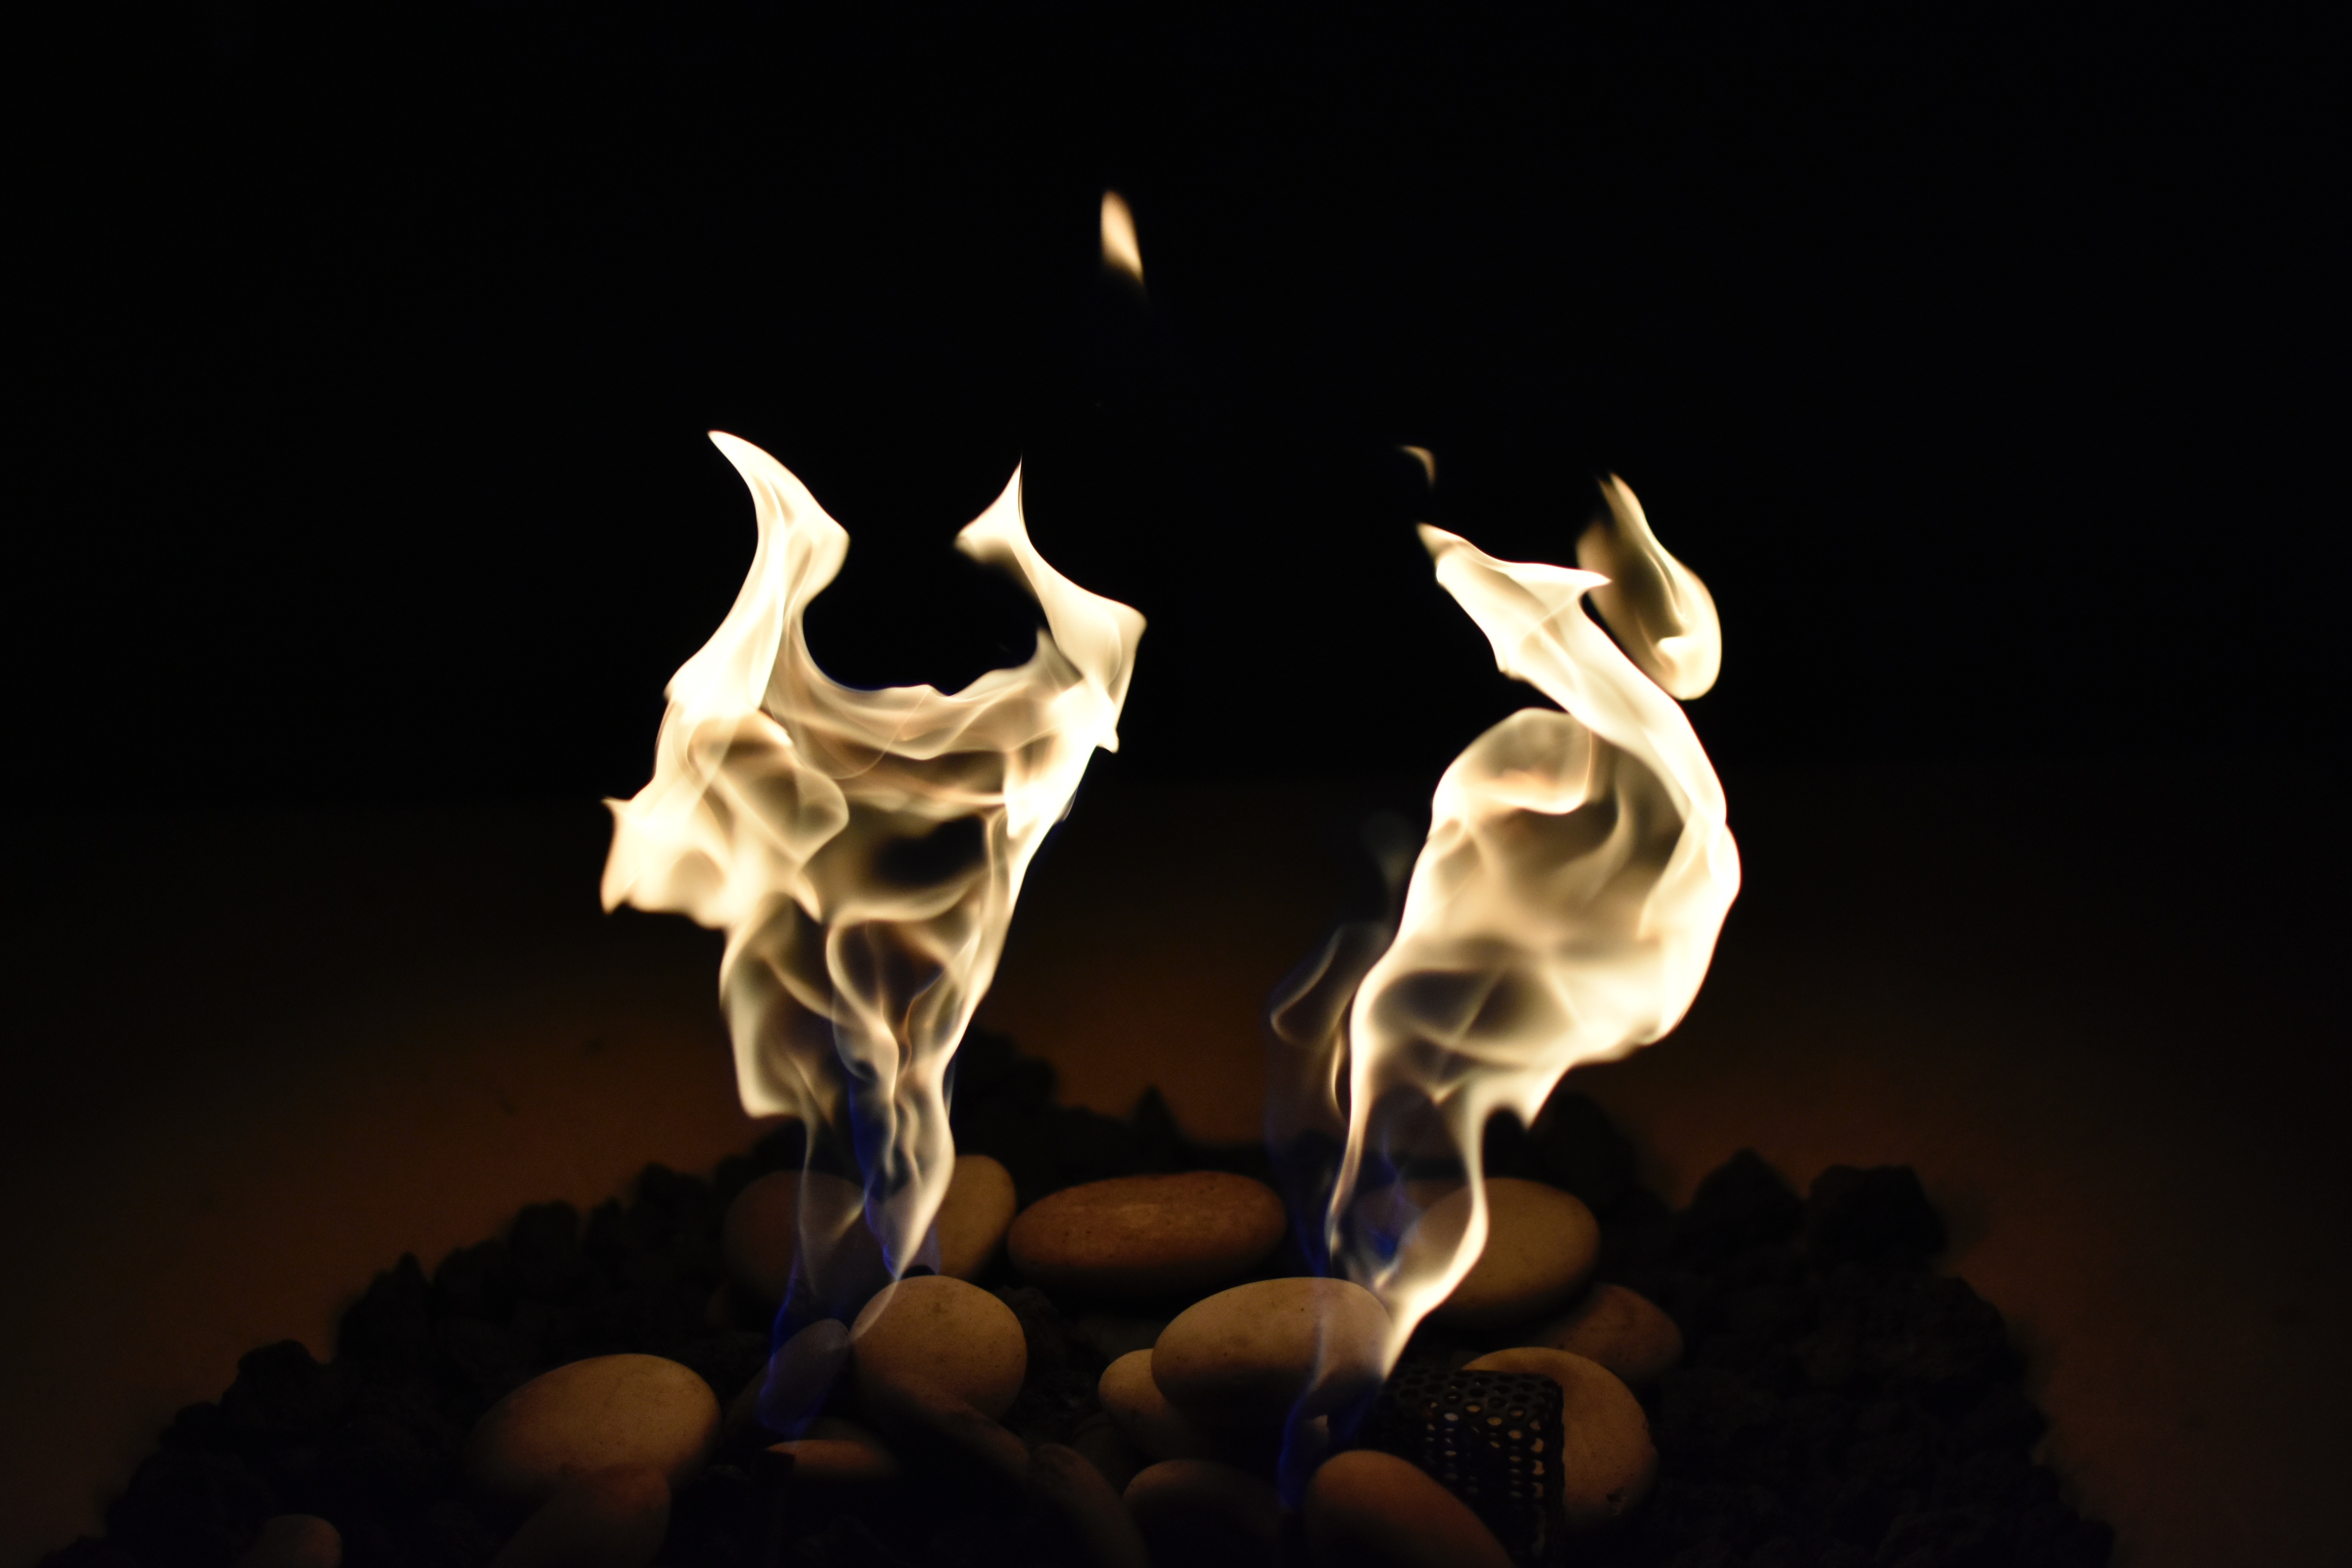fire: (600, 438, 1145, 1293), (1292, 480, 1750, 1382)
